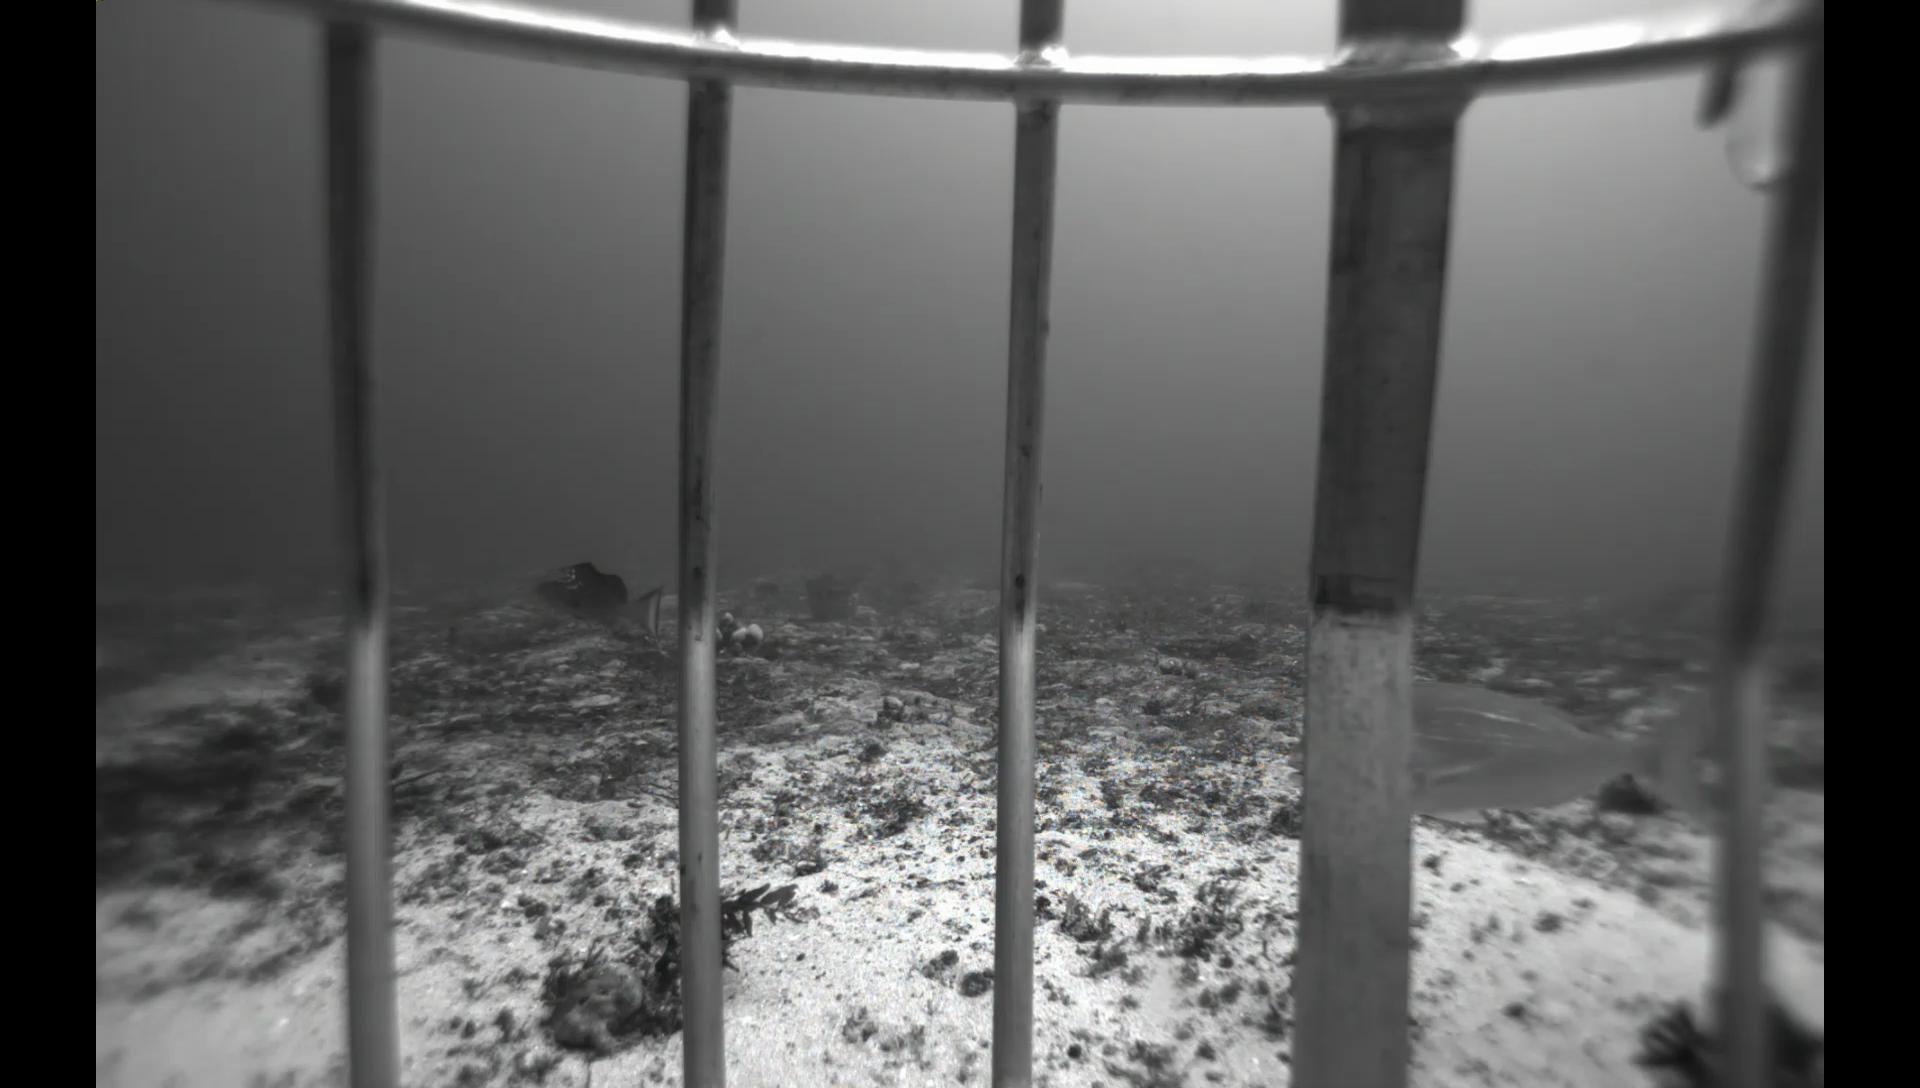CHAETODONOCELLATUS-170260307: (866, 557, 889, 578)
EPINEPHELUSMORIO-170021211: (520, 551, 667, 644)
PAGRUSPAGRUS-170212302: (1280, 675, 1731, 841)
PRISTIGENYSALTA-170050401: (313, 670, 407, 721)
